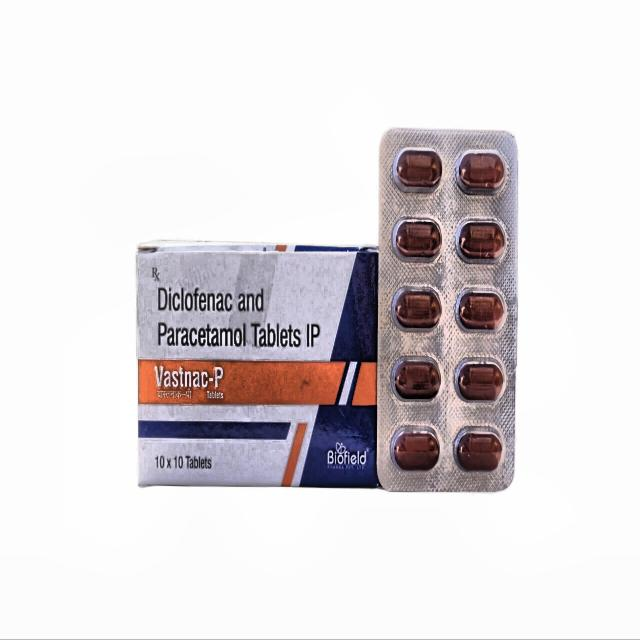Paracetamol: (150, 278, 332, 370)
